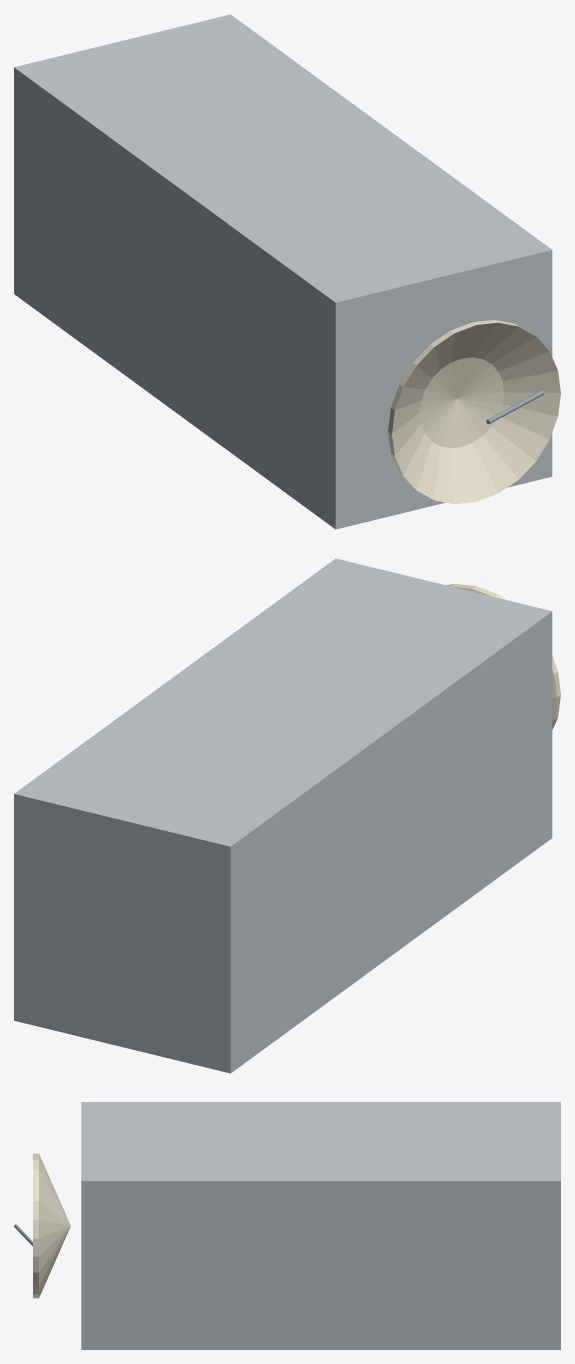
File: ref-ldrex-26640.glb
The picture shows the model from 3 angles, top to bottom: view 1: azimuth 30°, elevation 25°; view 2: azimuth 150°, elevation 25°; view 3: azimuth 270°, elevation 25°; orthographic projection. The views are drawn at different scales.
Parts seen in each view (by area): view 1: Spacecraft body, Reflector dish; view 2: Spacecraft body, Reflector dish; view 3: Spacecraft body, Reflector dish.
Boxes of the visible parts, left/top/right/bottom form: Spacecraft body: left=14, top=14, right=552, bottom=529; Reflector dish: left=388, top=320, right=560, bottom=504; Spacecraft body: left=14, top=558, right=552, bottom=1073; Reflector dish: left=447, top=583, right=560, bottom=729; Spacecraft body: left=81, top=1102, right=560, bottom=1349; Reflector dish: left=33, top=1153, right=70, bottom=1298.
Bounding box in the file's own units: 0.7 × 0.7 × 2.05.
